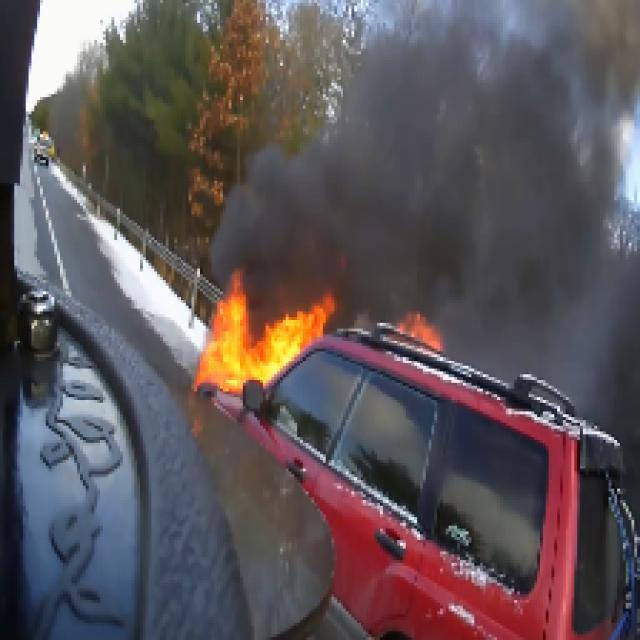Fire: (191, 243, 460, 443)
Smoke: (200, 0, 640, 331)
